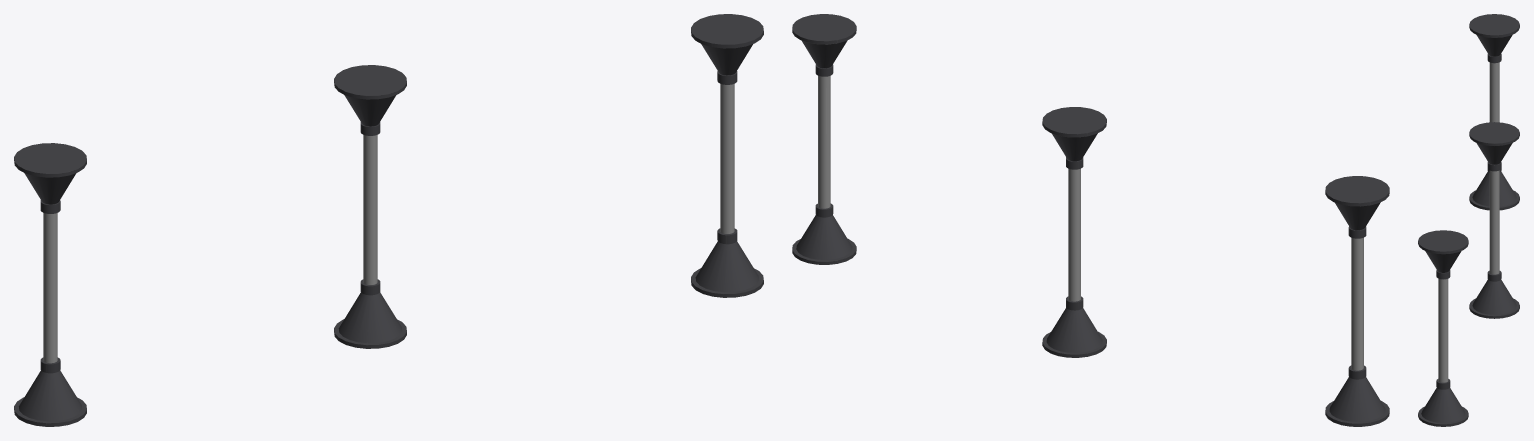
The model's file is Storage_Supports.fbx.
3 views of the same model, side by side, from view 1: azimuth 30°, elevation 25°; view 2: azimuth 150°, elevation 25°; view 3: azimuth 270°, elevation 25° (orthographic). The views are drawn at different scales.
Visible parts, largest first — view 1: Storage_Supports; view 2: Storage_Supports; view 3: Storage_Supports.
Boxes of the visible parts, x1=… form: Storage_Supports: x1=14, y1=14, x2=763, y2=426; Storage_Supports: x1=792, y1=14, x2=1389, y2=426; Storage_Supports: x1=1418, y1=14, x2=1519, y2=426.
Size of the model in its own units: 3433 by 1180 by 622.
